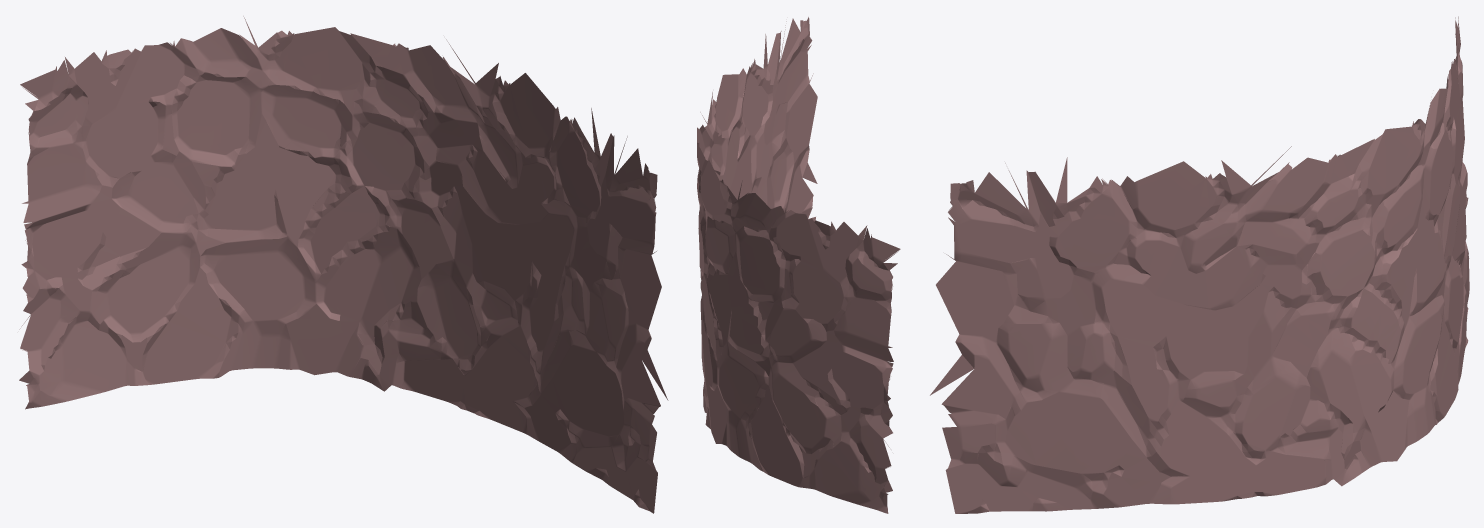
Rendered from mini_canyon.fbx_Cube__12__013LODs.fbx.
3 renders of one model, left to right at view 1: azimuth 30°, elevation 25°; view 2: azimuth 150°, elevation 25°; view 3: azimuth 270°, elevation 25°, orthographic. The views are drawn at different scales.
Visible parts, largest first — view 1: Cube (12).013_LOD0; view 2: Cube (12).013_LOD0; view 3: Cube (12).013_LOD0.
Boxes of the visible parts, x1,y1,x2,y2 form: Cube (12).013_LOD0: (19, 16, 668, 513); Cube (12).013_LOD0: (697, 17, 900, 513); Cube (12).013_LOD0: (930, 16, 1469, 513).
Size of what is drawn, in the model's own units: 5095 by 4812 by 6513.
